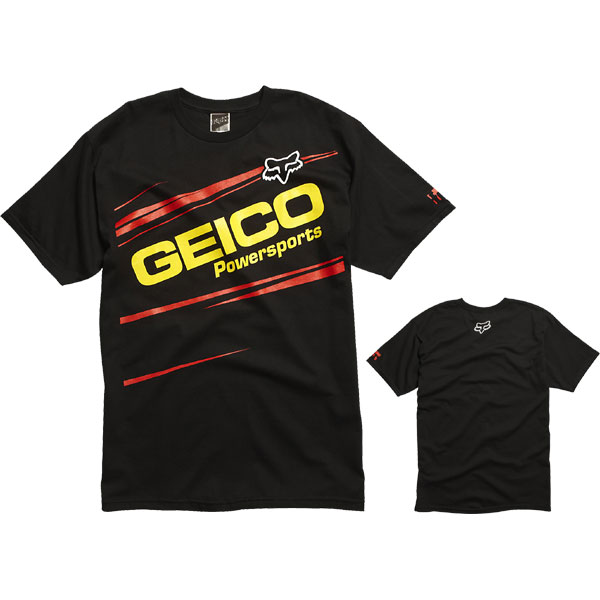Geico: (128, 185, 334, 280)
